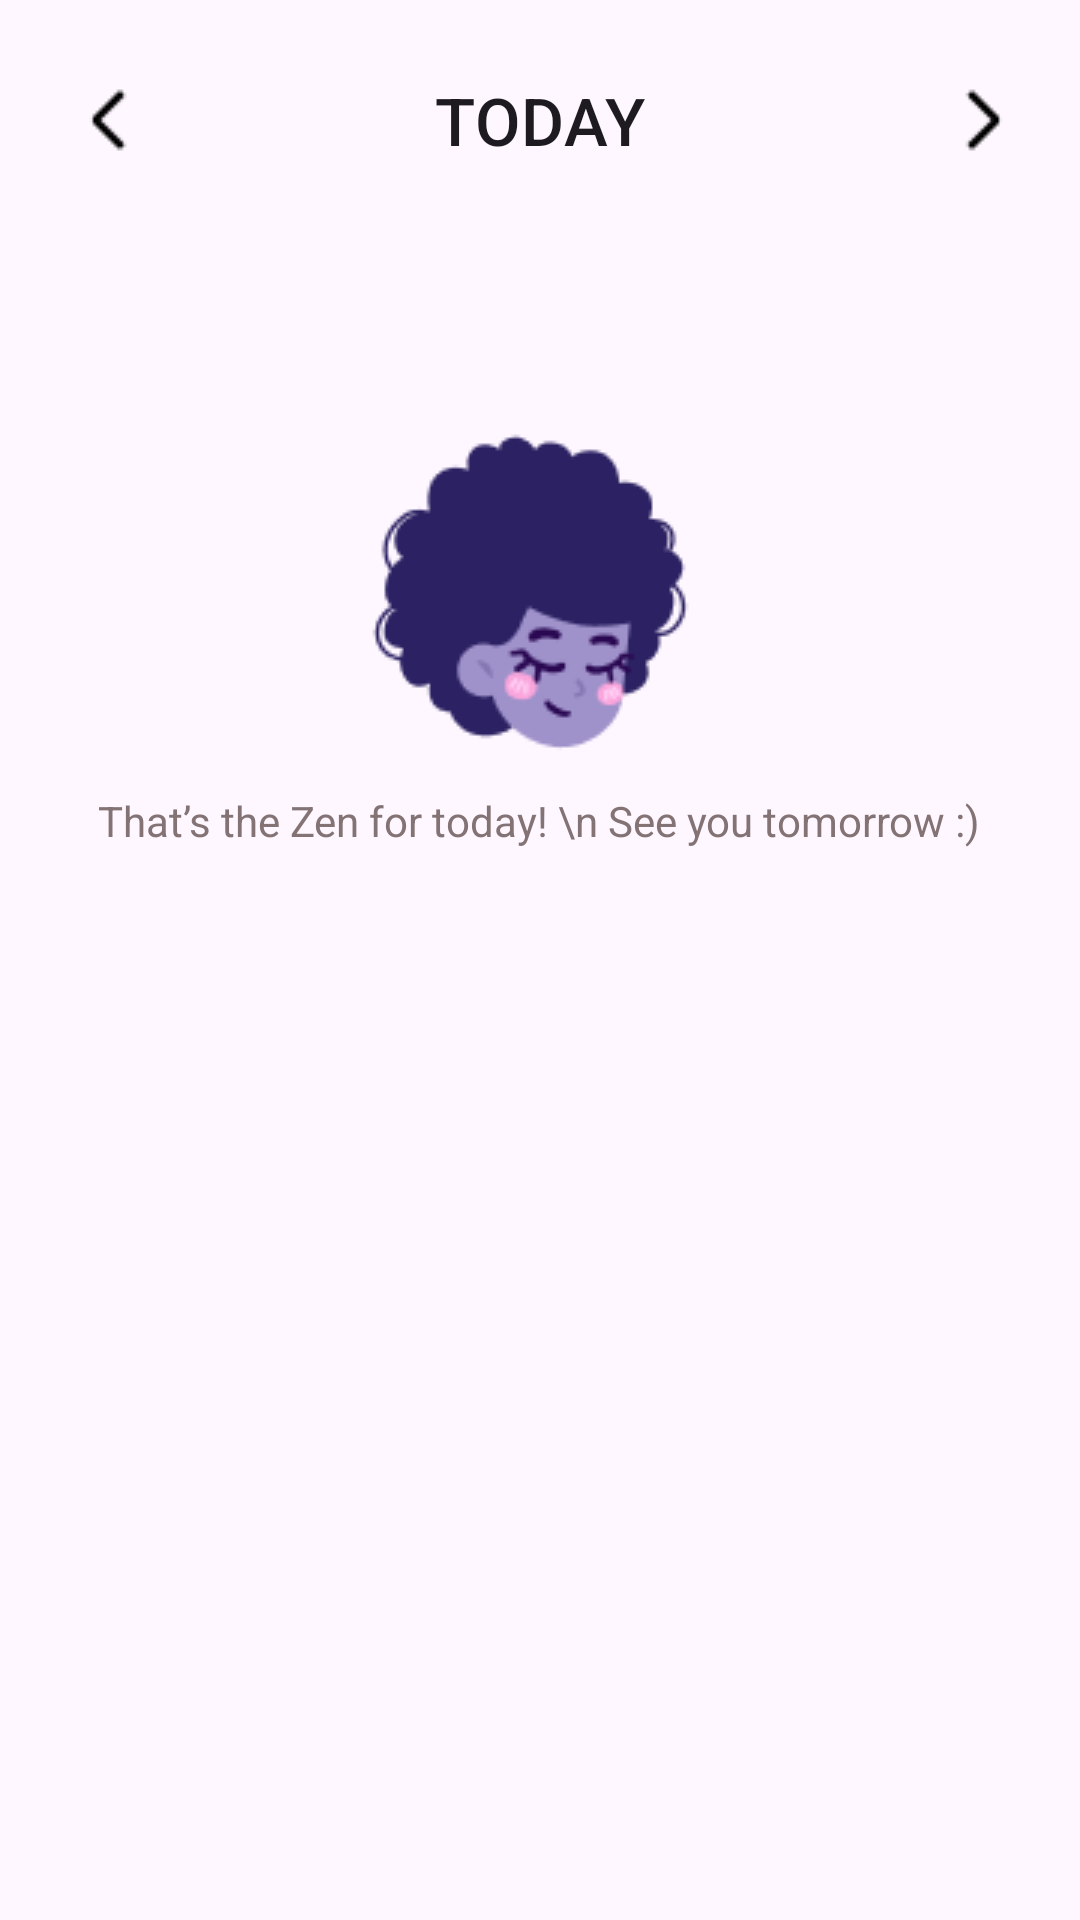

Named icons in this screenshot (1080x1920) and their bounding boxes, rect(x1, y1, x2, y2):
arrow back: rect(92, 89, 126, 151)
